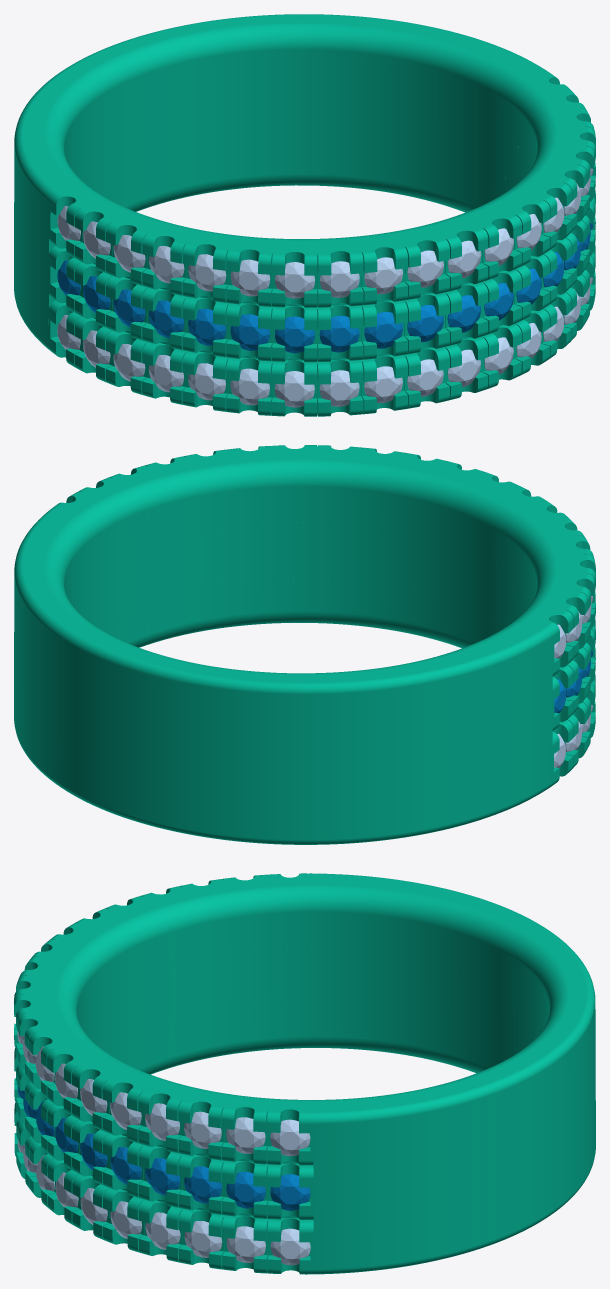
The picture shows the model from 3 angles, top to bottom: view 1: azimuth 30°, elevation 25°; view 2: azimuth 150°, elevation 25°; view 3: azimuth 270°, elevation 25°; orthographic projection.
Visible parts, largest first — view 1: VR923 - L 1.2 D2(base).3dm, Diamond_Round (×33); view 2: VR923 - L 1.2 D2(base).3dm; view 3: VR923 - L 1.2 D2(base).3dm, Diamond_Round (×18).
Part boxes in pixels (x1=…): VR923 - L 1.2 D2(base).3dm: x1=14, y1=14, x2=595, y2=416; Diamond_Round (×33): x1=82, y1=221, x2=513, y2=407; VR923 - L 1.2 D2(base).3dm: x1=14, y1=445, x2=595, y2=844; VR923 - L 1.2 D2(base).3dm: x1=14, y1=873, x2=595, y2=1274; Diamond_Round (×18): x1=80, y1=1079, x2=310, y2=1265.
Size of the model in its own units: 2.76 by 0.853 by 2.76.
